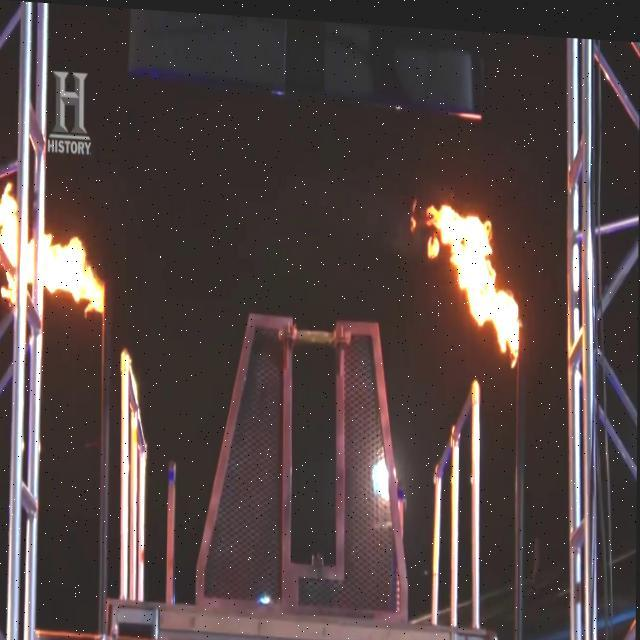Fire: (404, 180, 544, 374), (0, 188, 119, 330)
